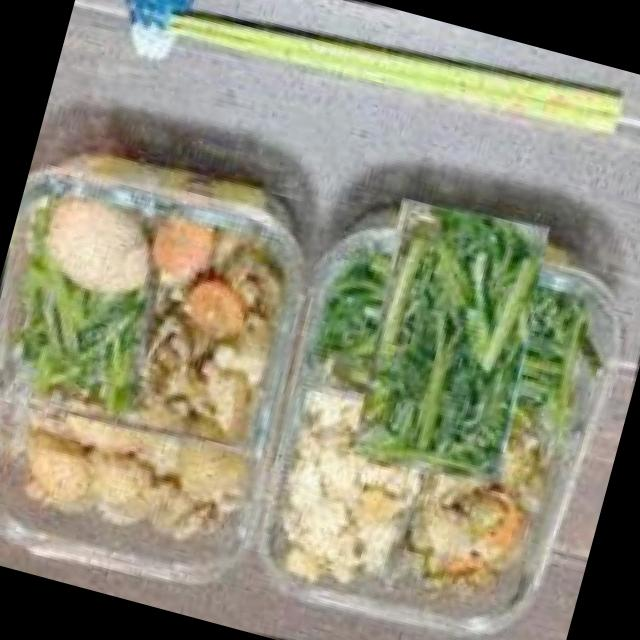water_spinach: (316, 208, 586, 477), (0, 269, 155, 430)
